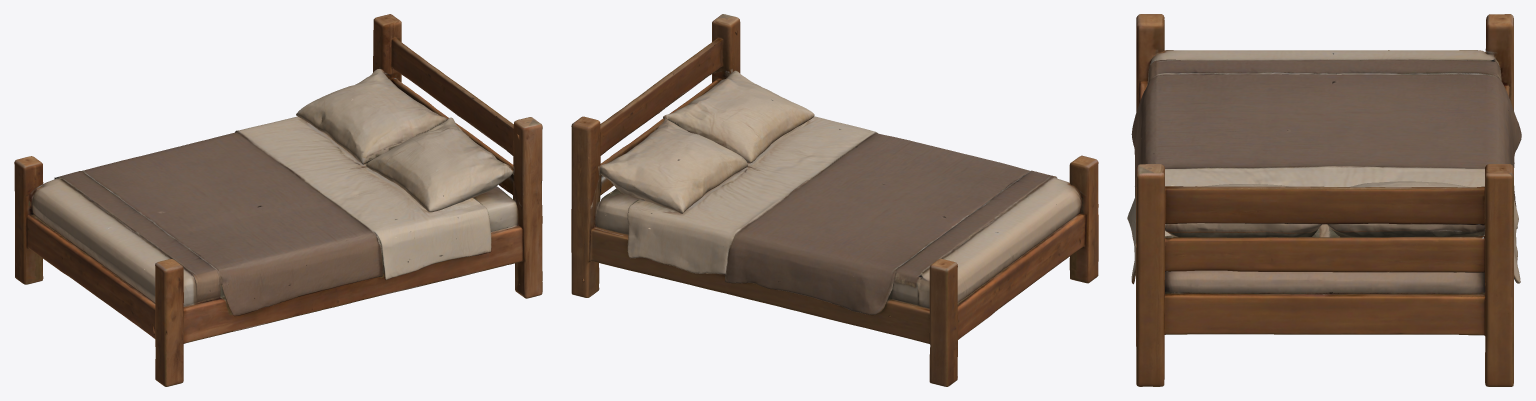
Rendered from Cozy_Slumber_0717215904_texture.fbx.
3 renders of one model, left to right at view 1: azimuth 30°, elevation 25°; view 2: azimuth 150°, elevation 25°; view 3: azimuth 270°, elevation 25°, orthographic. The views are drawn at different scales.
Visible parts, largest first — view 1: Mesh_0; view 2: Mesh_0; view 3: Mesh_0.
Part boxes in pixels (x1=…): Mesh_0: x1=14, y1=14, x2=542, y2=386; Mesh_0: x1=571, y1=14, x2=1098, y2=386; Mesh_0: x1=1127, y1=14, x2=1521, y2=386.
Size of the model in its own units: 200 by 87.4 by 145.
Materials: 1 (1 with a texture image).
